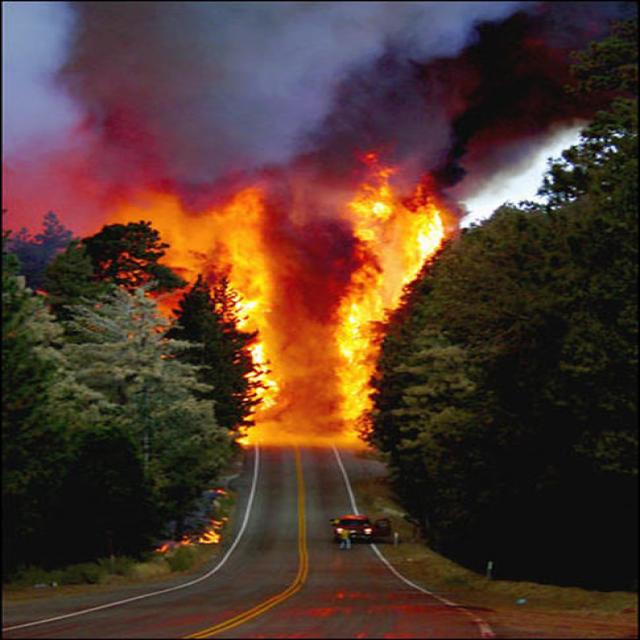Fire: (147, 157, 480, 452)
Smoke: (25, 0, 640, 268)
